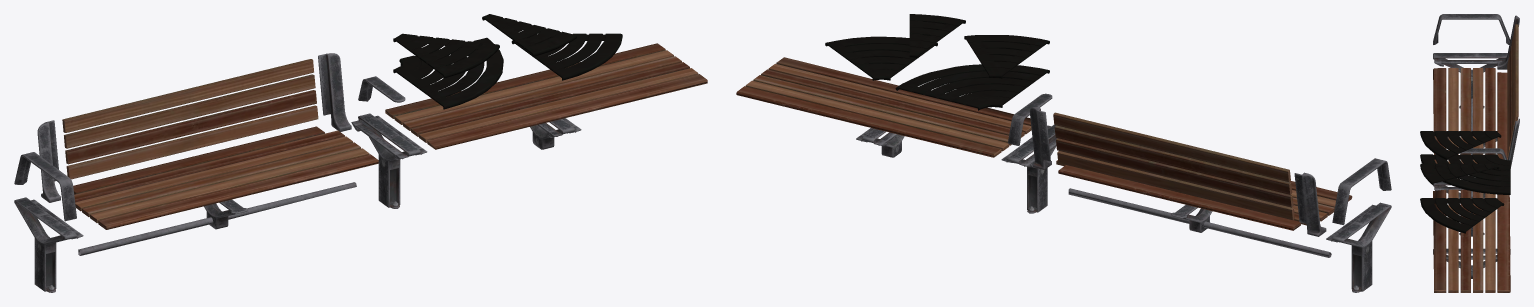
Rendered from bench.glb.
3 views of the same model, side by side, from view 1: azimuth 30°, elevation 25°; view 2: azimuth 150°, elevation 25°; view 3: azimuth 270°, elevation 25° (orthographic). The views are drawn at different scales.
Visible parts, largest first — view 1: seat_back, seat, seat_bench, connector_90, legs_double, connector_45, legs_single, connector_60, crossbar, connector_30, back_support_l, arm_rest_01 (+4 smaller); view 2: seat_bench, seat_back, connector_90, seat, connector_60, legs_single, connector_45, crossbar, legs_double, connector_30, arm_rest_01, back_support_r (+4 smaller); view 3: seat_bench, seat, connector_90, connector_60, connector_45, seat_back, connector_30, legs_single, arm_rest_01, arm_rest_02, back_support_r, legs_double (+3 smaller).
Part boxes in pixels (x1,y1,x2,y2): seat_back: (62,59,318,179); seat: (73,126,378,229); seat_bench: (385,43,707,149); connector_90: (393,37,503,109); legs_double: (351,113,427,208); connector_45: (393,33,499,78); legs_single: (14,197,83,292); connector_60: (511,33,622,80); crossbar: (78,182,356,255); connector_30: (482,14,576,56); back_support_l: (318,53,351,131); arm_rest_01: (14,152,76,221); seat_bench: (736,57,1031,157); seat_back: (1053,112,1294,220); connector_90: (895,64,1049,110); seat: (1056,160,1352,230); connector_60: (825,36,937,80); legs_single: (1326,202,1391,292); connector_45: (964,35,1049,78); crossbar: (1068,188,1331,257); legs_double: (1001,125,1057,213); connector_30: (909,14,965,57); arm_rest_01: (1332,158,1391,225); back_support_r: (1294,172,1326,236); seat_bench: (1433,189,1510,292); seat: (1433,68,1507,163); connector_90: (1420,154,1510,194); connector_60: (1420,198,1504,233); connector_45: (1420,131,1501,160); seat_back: (1507,24,1518,157); connector_30: (1420,163,1499,185); legs_single: (1433,53,1507,108); arm_rest_01: (1433,14,1510,44); arm_rest_02: (1460,148,1507,160); back_support_r: (1497,15,1519,69); legs_double: (1433,181,1485,236).
Size of the model in its own units: 4.34 by 0.95 by 0.7704.
Materials: 4 (4 with a texture image).
